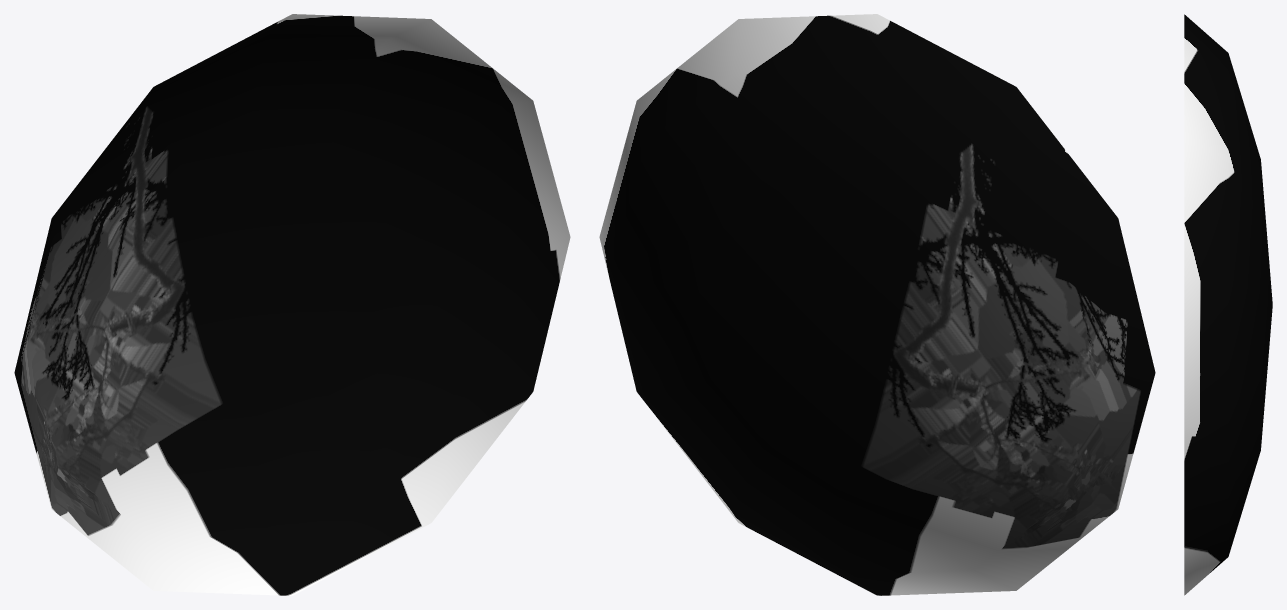
3 views of the same model, side by side, from view 1: azimuth 30°, elevation 25°; view 2: azimuth 150°, elevation 25°; view 3: azimuth 270°, elevation 25° (orthographic). The views are drawn at different scales.
Parts seen in each view (by area): view 1: root1; view 2: root1; view 3: root1.
Boxes of the visible parts, box(x1,y1,x2,y2) form: root1: box(14, 14, 570, 595); root1: box(599, 14, 1155, 595); root1: box(1184, 14, 1272, 595).
Bounding box in the file's own units: 91.55 × 91.55 × 13.89.
